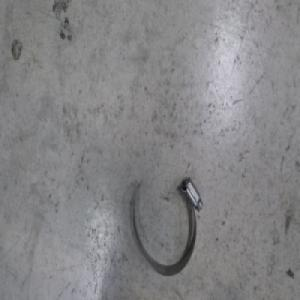AdjustableClamp: (129, 176, 203, 279)
